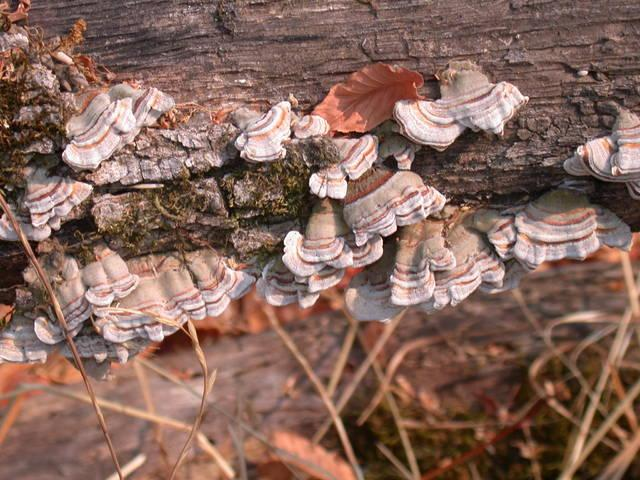Non-edible Mushroom: (256, 105, 635, 368), (4, 52, 175, 236), (4, 235, 242, 357), (390, 61, 529, 151), (561, 102, 639, 200), (233, 99, 293, 163)
